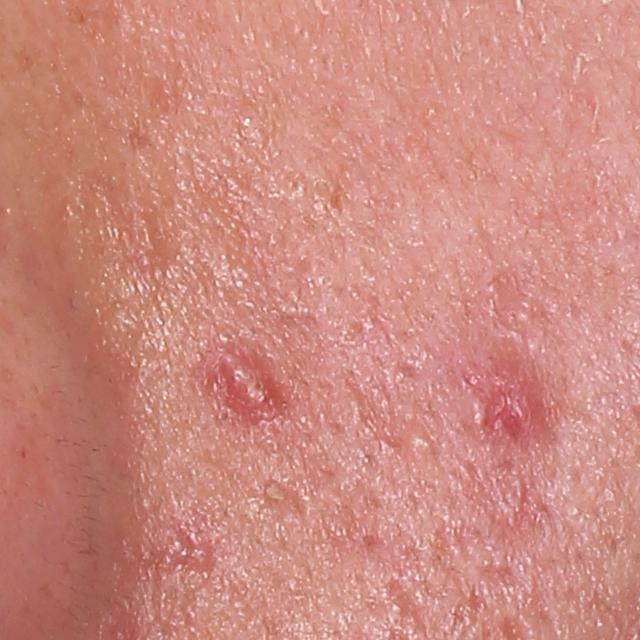comedo: (406, 430, 440, 456)
papule: (215, 343, 289, 423), (484, 374, 550, 444), (184, 540, 213, 585)
